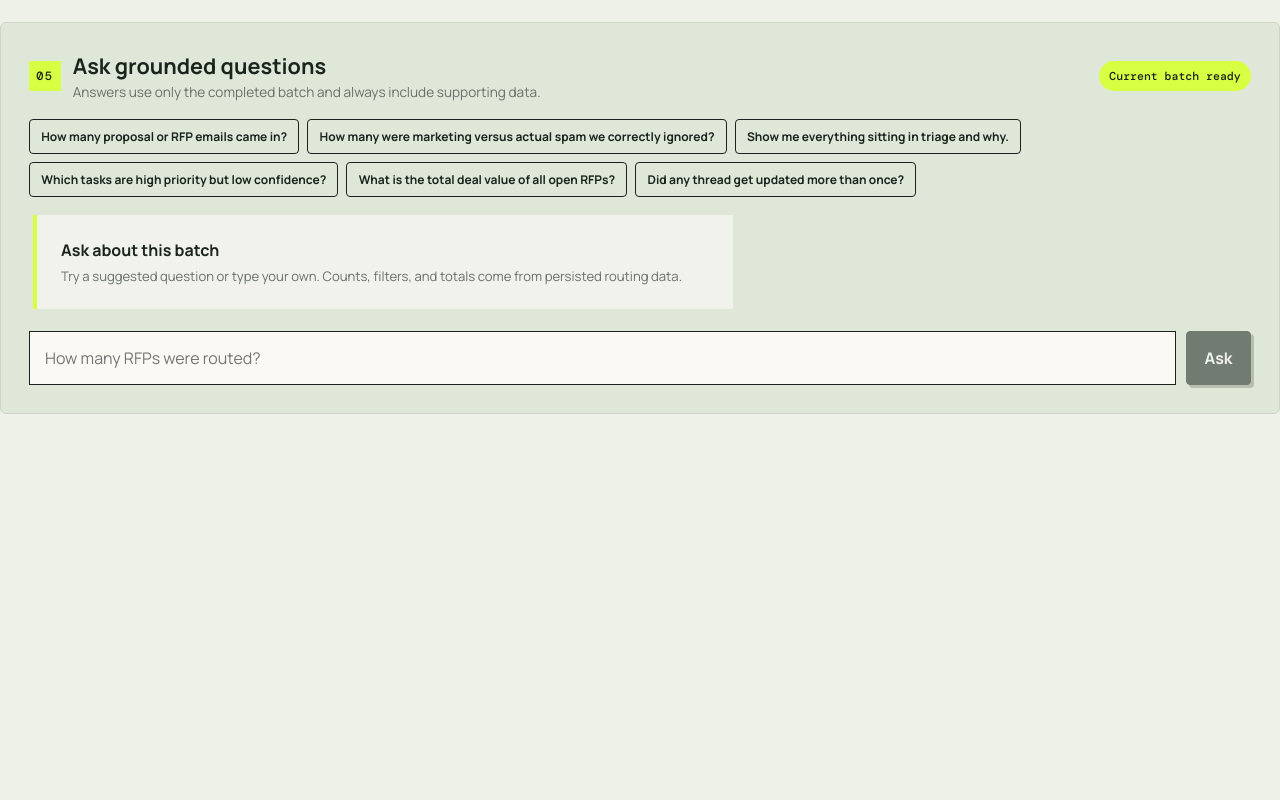
Test: always uses the completed current batch and renders supporting data
Expected: the text "Current batch ready" is shown, [1099,61,1251,91]
Expected: the element with class "chat-history" is shown, [33,215,733,309]
Click the button "How many proposal or RFP emails came in?". click: (164, 137)
box: [29,119,299,154]
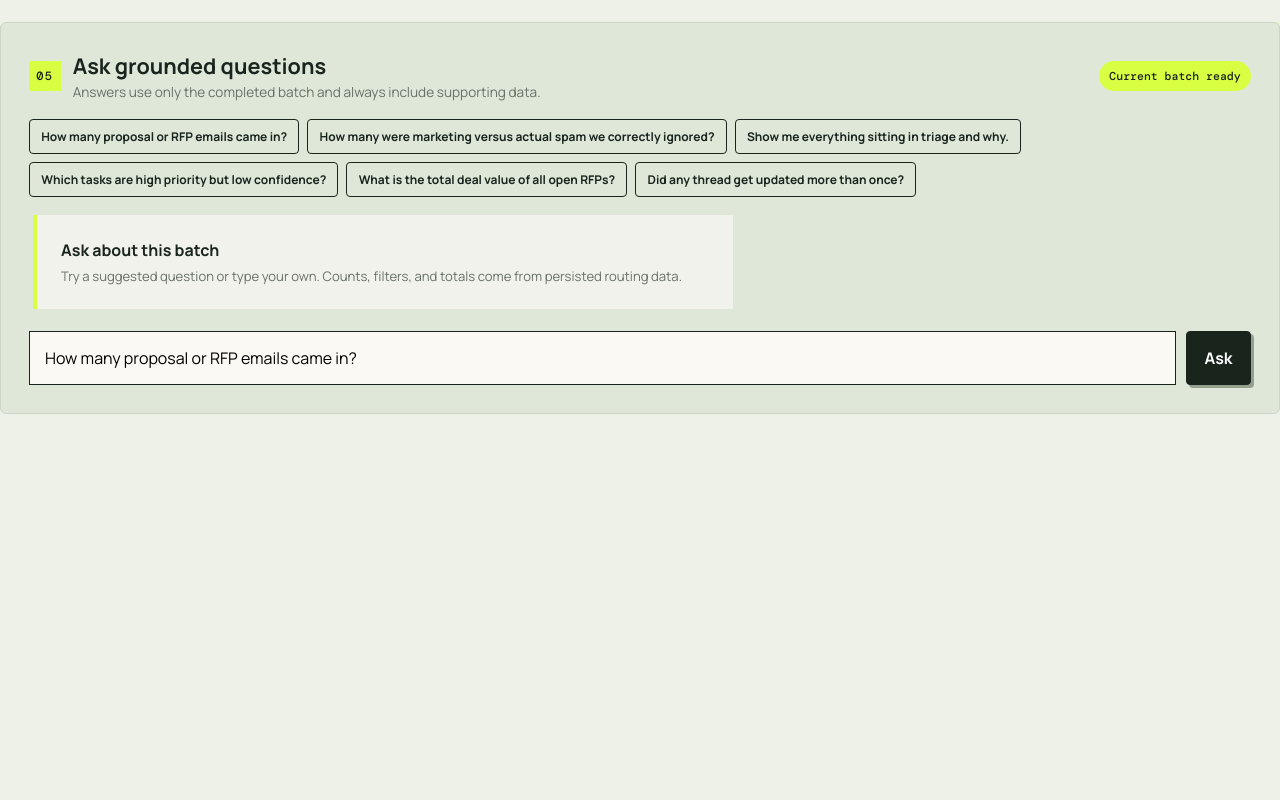
Click the button "Ask". click: (1218, 358)
box: [1186,331,1251,385]
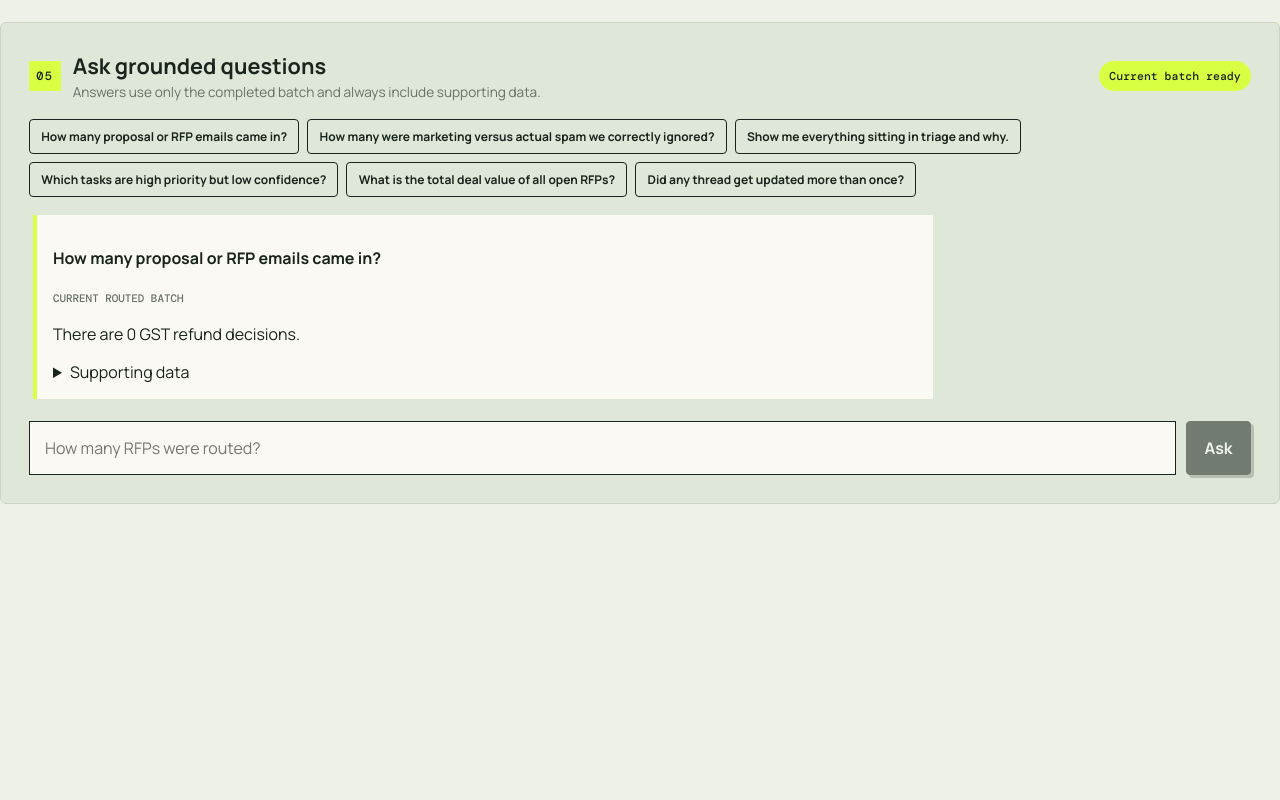
Now the text "There are 0 GST refund decisions." is shown, box [53,323,300,345]
Click the heading "Supporting data". click: (130, 372)
box: [70,361,189,383]
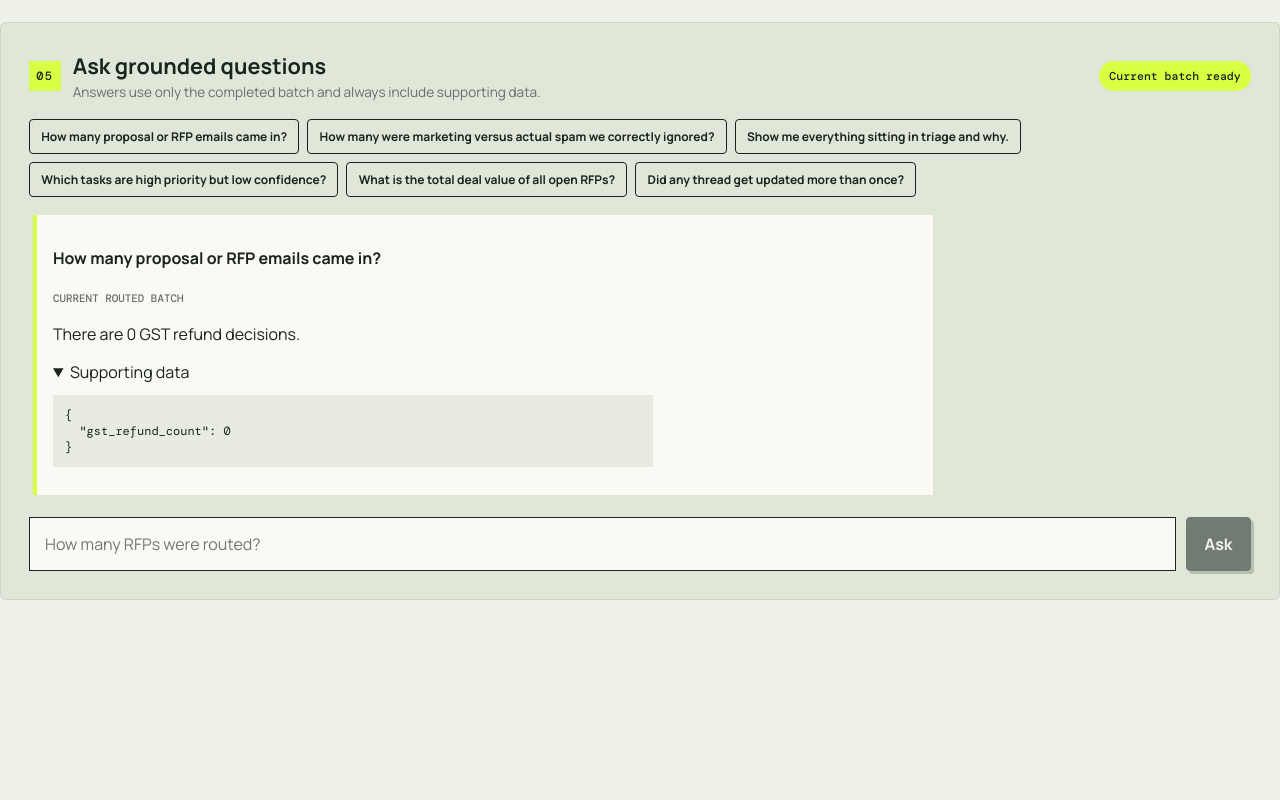
Now the text "{ \"gst_refund_count\": 0 }" is shown, box [53,395,653,467]
